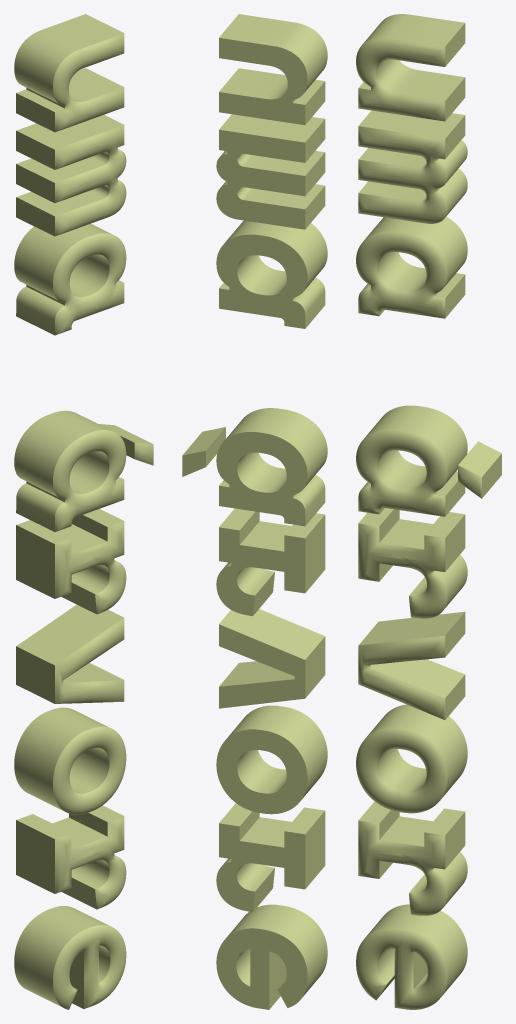
The model's file is EEEE.gltf.
The picture shows the model from 3 angles, left to right: view 1: azimuth 30°, elevation 25°; view 2: azimuth 150°, elevation 25°; view 3: azimuth 330°, elevation 25°; orthographic projection.
Visible parts, largest first — view 1: uma_árvore; view 2: uma_árvore; view 3: uma_árvore.
Boxes of the visible parts, x1,y1,x2,y2 form: uma_árvore: (14,14,153,1009); uma_árvore: (182,14,327,1009); uma_árvore: (356,14,501,1009).
Bounding box in the file's own units: 0.6836 × 5.14 × 0.4176.
